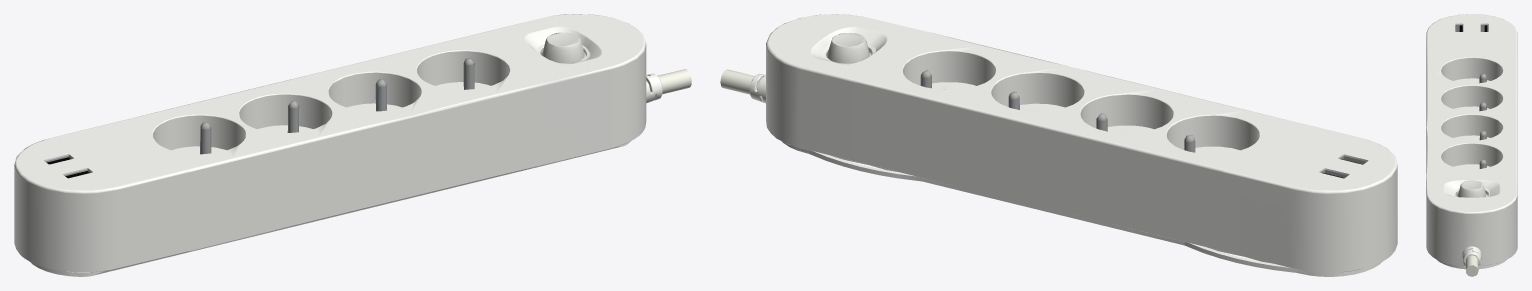
File: KOPPLA Prise quadruple 2 ports USB blanc 3.0 m.glb
The picture shows the model from 3 angles, left to right: view 1: azimuth 30°, elevation 25°; view 2: azimuth 150°, elevation 25°; view 3: azimuth 270°, elevation 25°; orthographic projection. The views are drawn at different scales.
Visible parts, largest first — view 1: 00314741-KOPPLA001; view 2: 00314741-KOPPLA001; view 3: 00314741-KOPPLA001.
Boxes of the visible parts, x1,y1,x2,y2 form: 00314741-KOPPLA001: (14, 14, 691, 276); 00314741-KOPPLA001: (720, 14, 1397, 276); 00314741-KOPPLA001: (1426, 14, 1517, 276).
Size of the model in its own units: 0.3246 by 0.0448 by 0.0582.
1 material, 1 textured.
